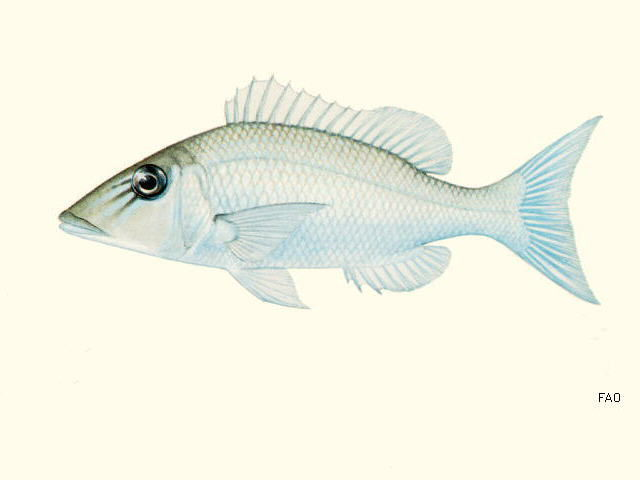fish: (58, 76, 602, 309)
